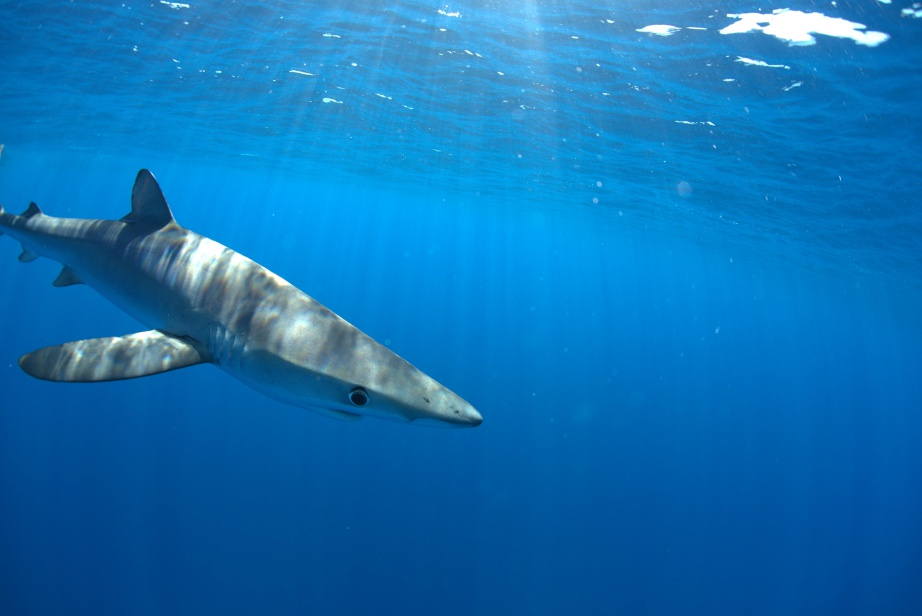Azul: (3, 144, 495, 443)
